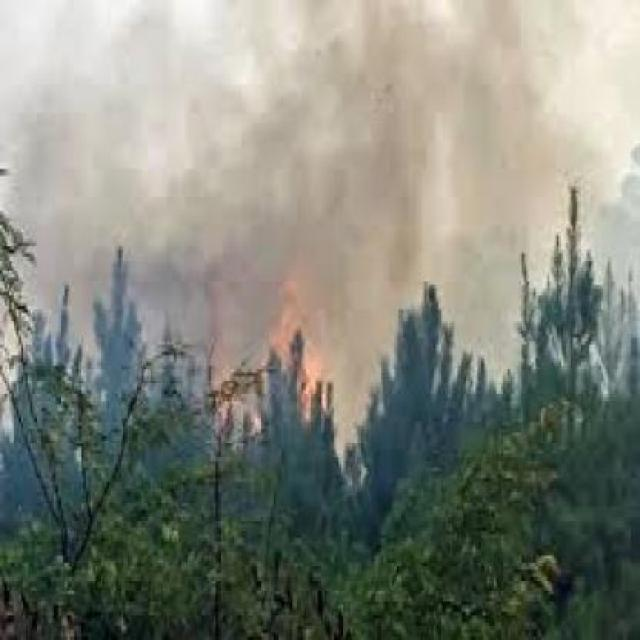Fire: (226, 254, 358, 465)
Smoke: (9, 4, 633, 292)
